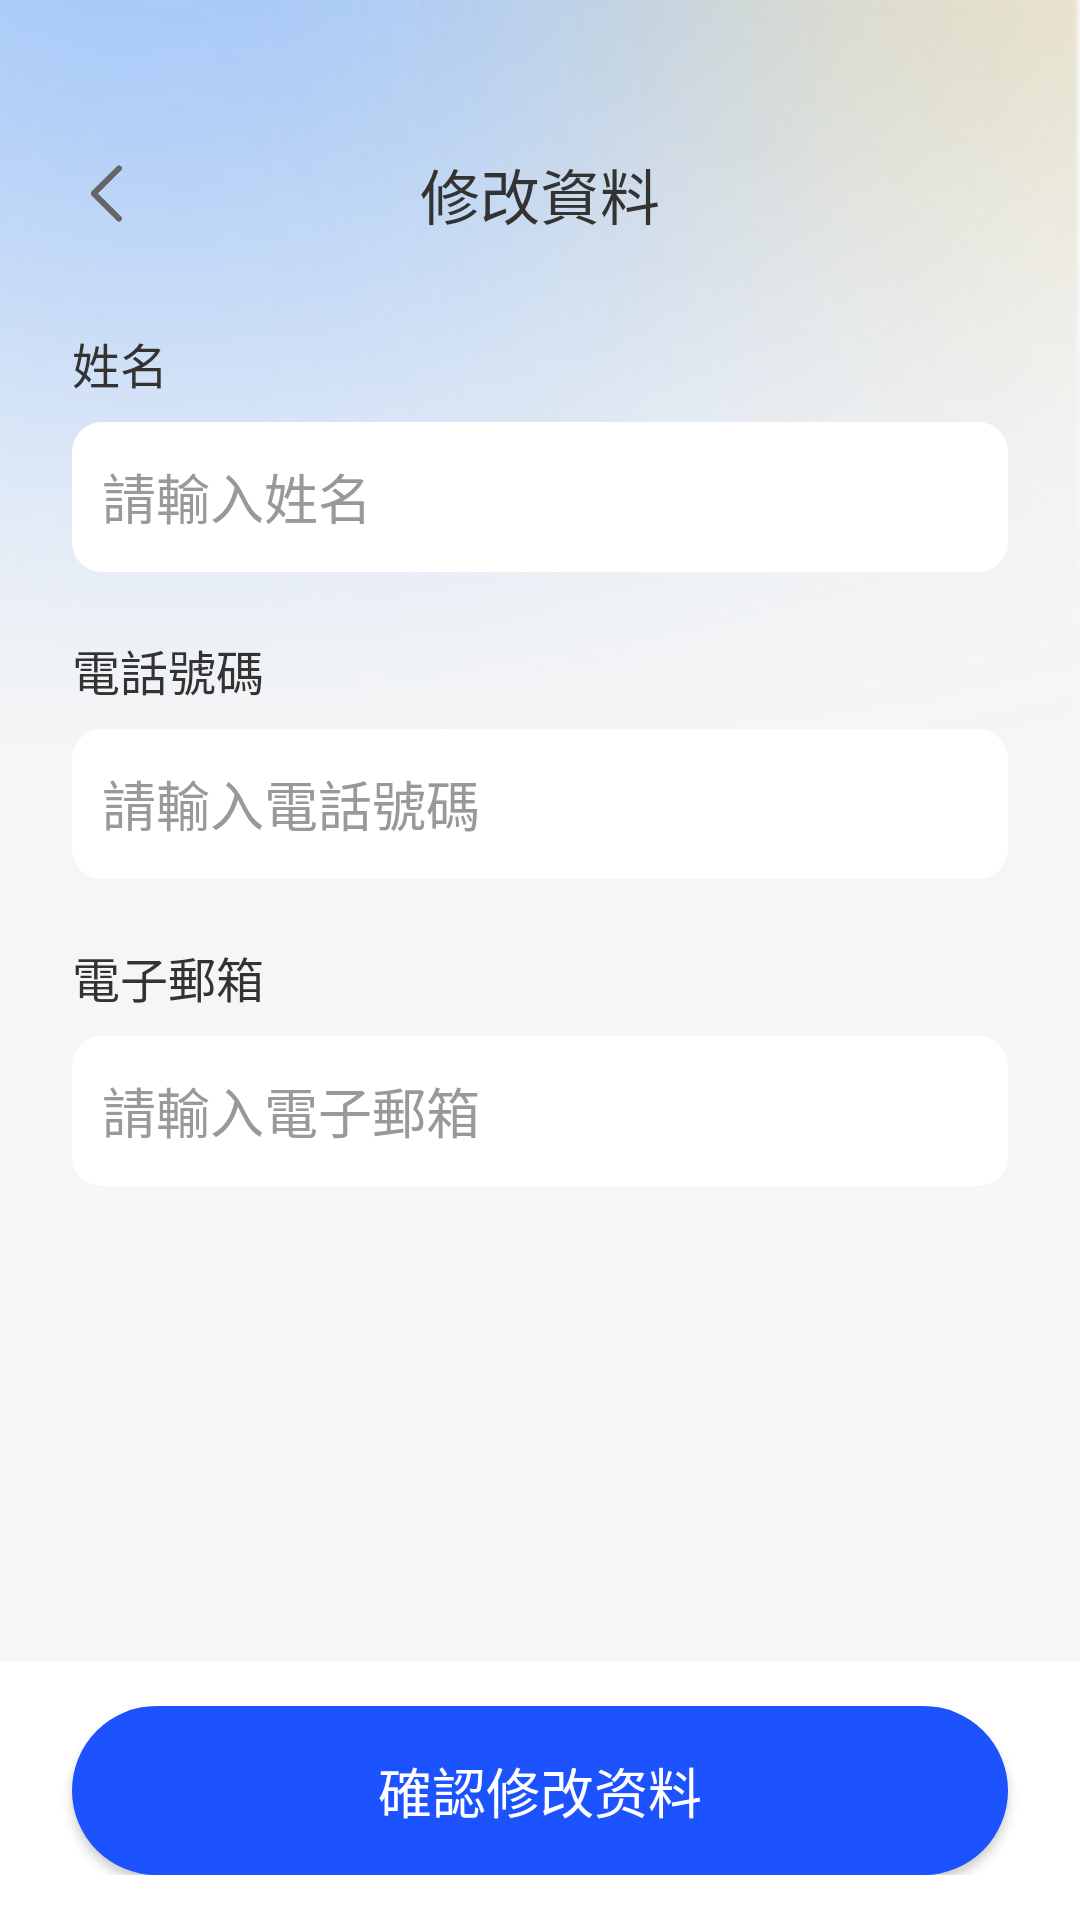

Locate icon controls on the screen. Image size 1080×1920, boxes as (x1, y1, x2, y2).
back: (91, 165, 122, 222)
